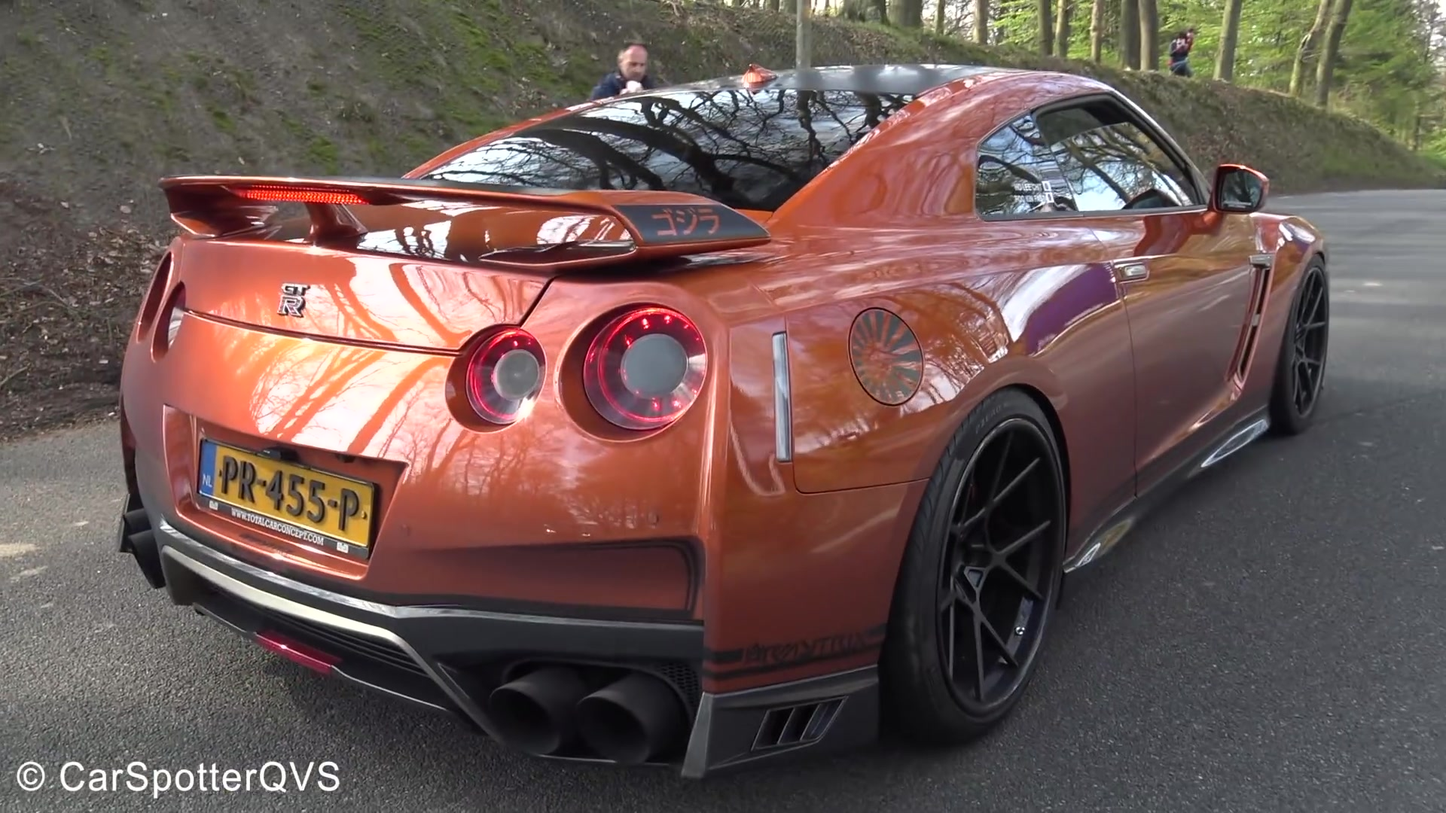other: (98, 62, 1327, 796)
